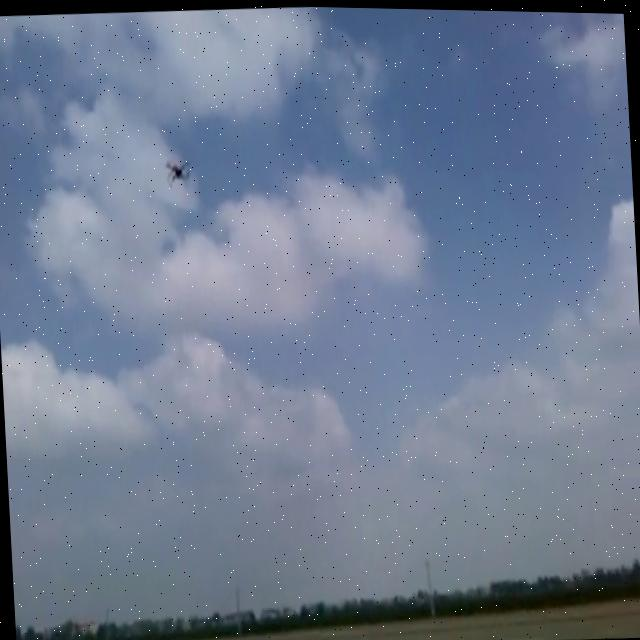drone: (162, 155, 194, 186)
